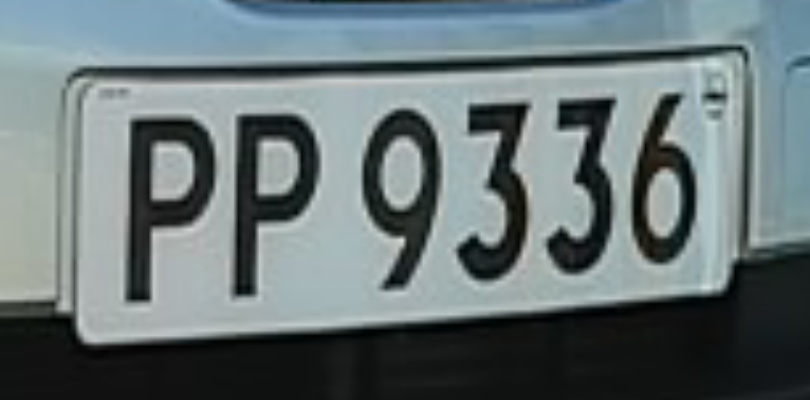3: (445, 74, 549, 311), (534, 70, 633, 303)
6: (619, 66, 710, 297)
9: (336, 78, 450, 322)
P: (106, 75, 233, 336), (220, 72, 345, 333)
